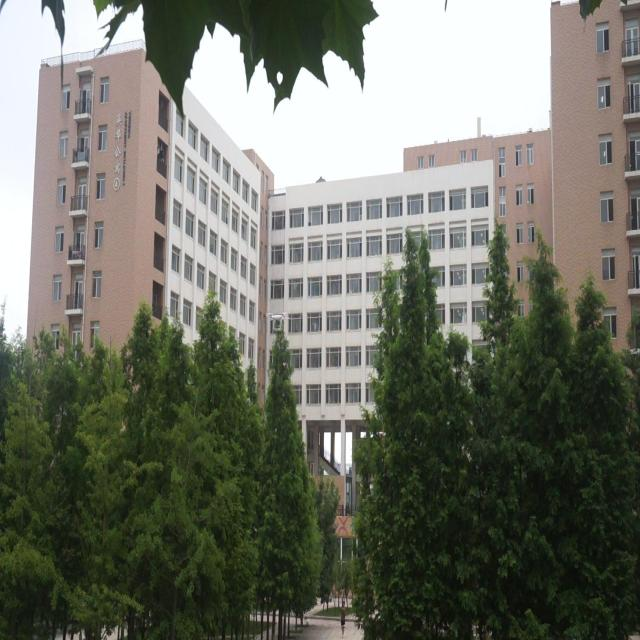drone: (264, 306, 292, 328)
